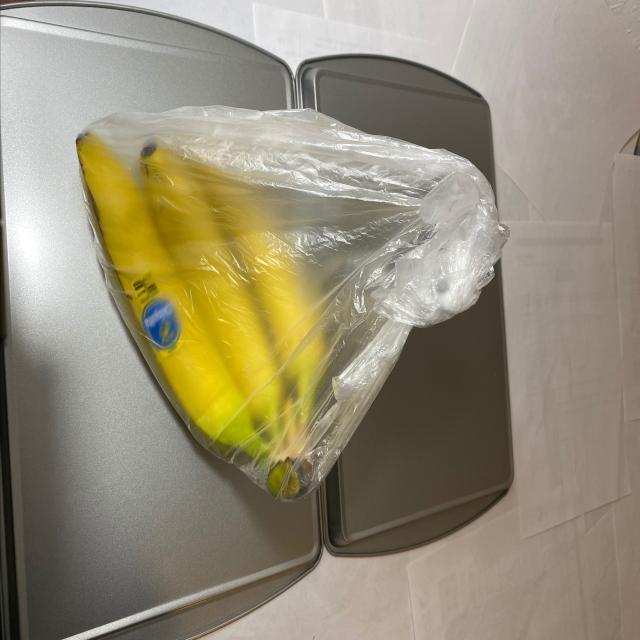banana: (63, 97, 378, 530)
